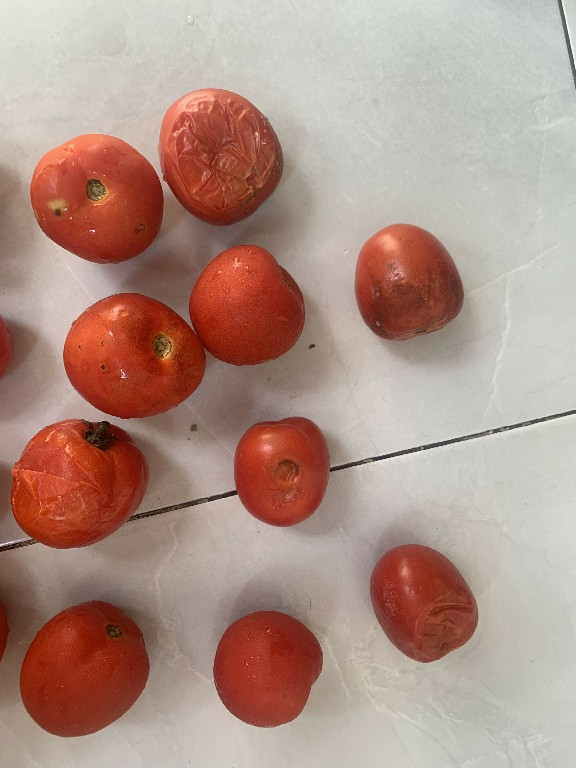NG: (159, 81, 308, 236), (55, 286, 210, 425), (5, 418, 152, 558), (31, 121, 166, 263), (358, 534, 484, 669), (348, 211, 467, 346), (227, 402, 326, 531)
OK: (25, 583, 159, 748), (172, 233, 312, 372), (208, 600, 325, 736)
